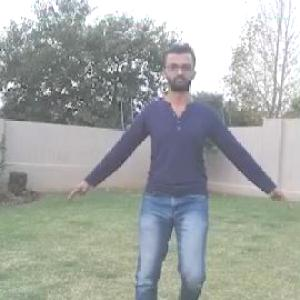land: (37, 23, 299, 299)
